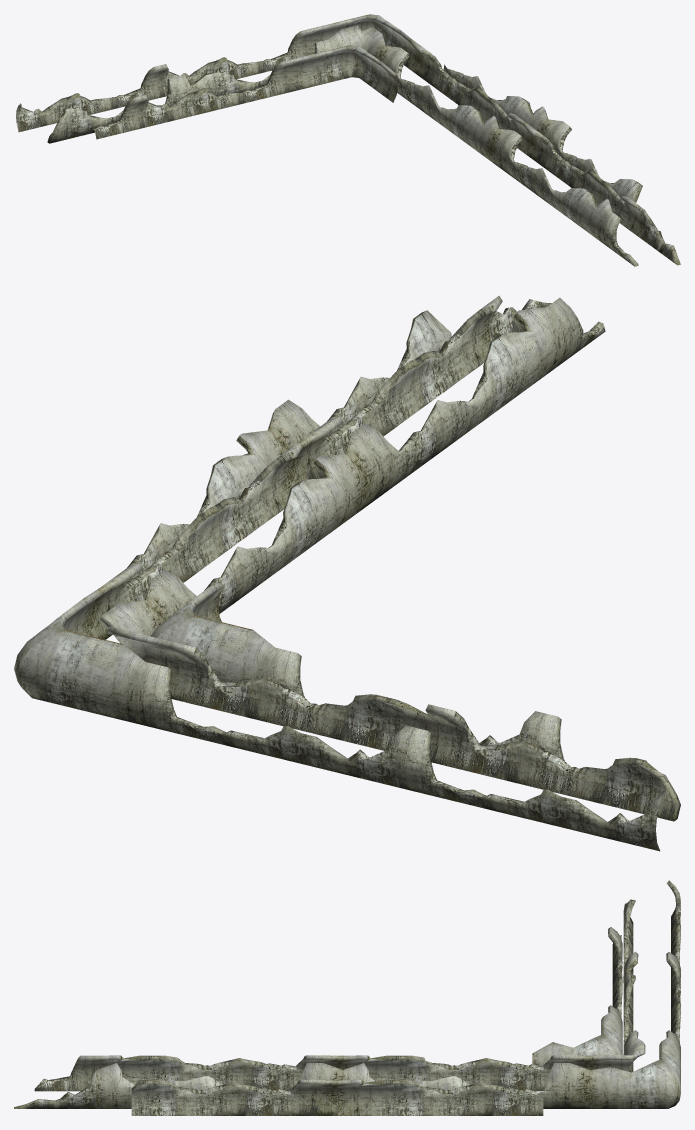
File: destroyed_walls_03.glb
The picture shows the model from 3 angles, top to bottom: view 1: azimuth 30°, elevation 25°; view 2: azimuth 150°, elevation 25°; view 3: azimuth 270°, elevation 25°; orthographic projection. The views are drawn at different scales.
Parts seen in each view (by area): view 1: wall.jpg__; view 2: wall.jpg__; view 3: wall.jpg__.
Boxes of the visible parts, box(x1,y1,x2,y2) form: wall.jpg__: box(16, 14, 680, 266); wall.jpg__: box(14, 295, 680, 851); wall.jpg__: box(14, 880, 680, 1115).
Size of the model in its own units: 70.45 by 6.45 by 97.19.
Materials: 1 (1 with a texture image).
